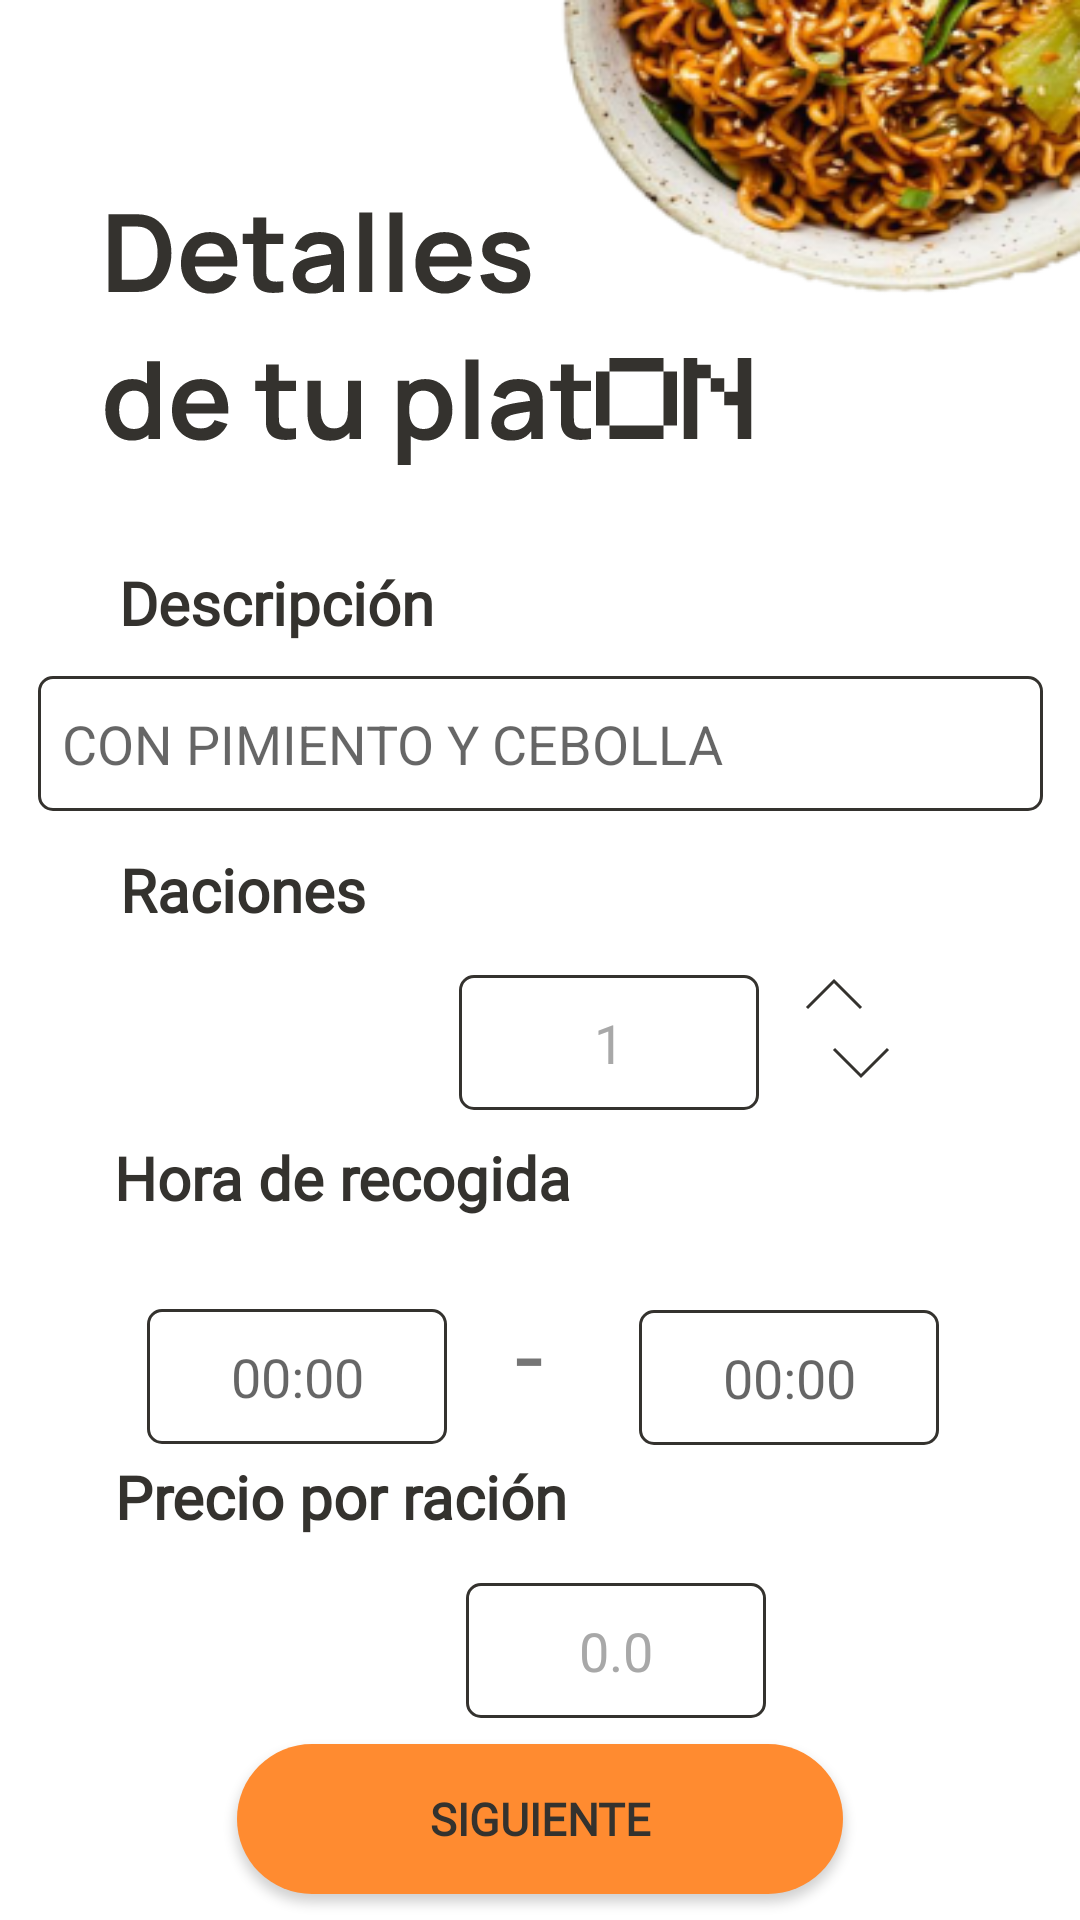

Icons on this 1080 × 1920 Android screen, each with its box as bbox=[x1, y1, x2, y2]:
flecha abajo: bbox=[833, 1048, 889, 1078]
flecha arriba: bbox=[806, 979, 862, 1009]
